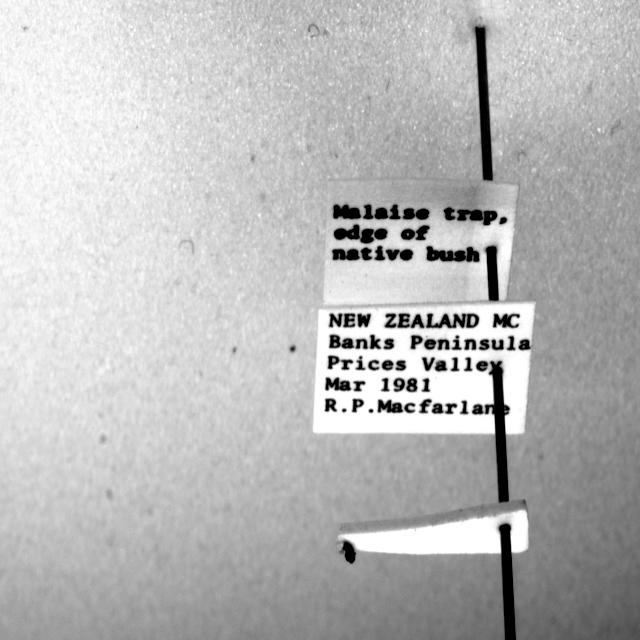typed_label: (314, 302, 535, 435), (324, 178, 519, 306)
